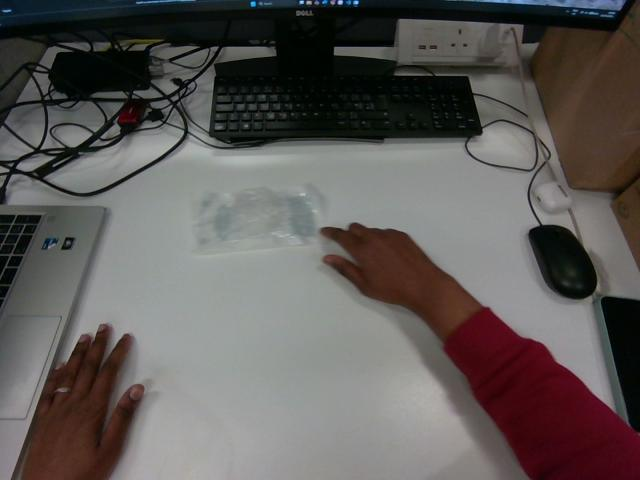gallipot: (194, 184, 323, 253)
